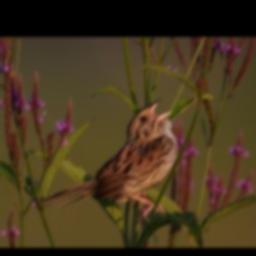Sparrow: (35, 98, 179, 226)
